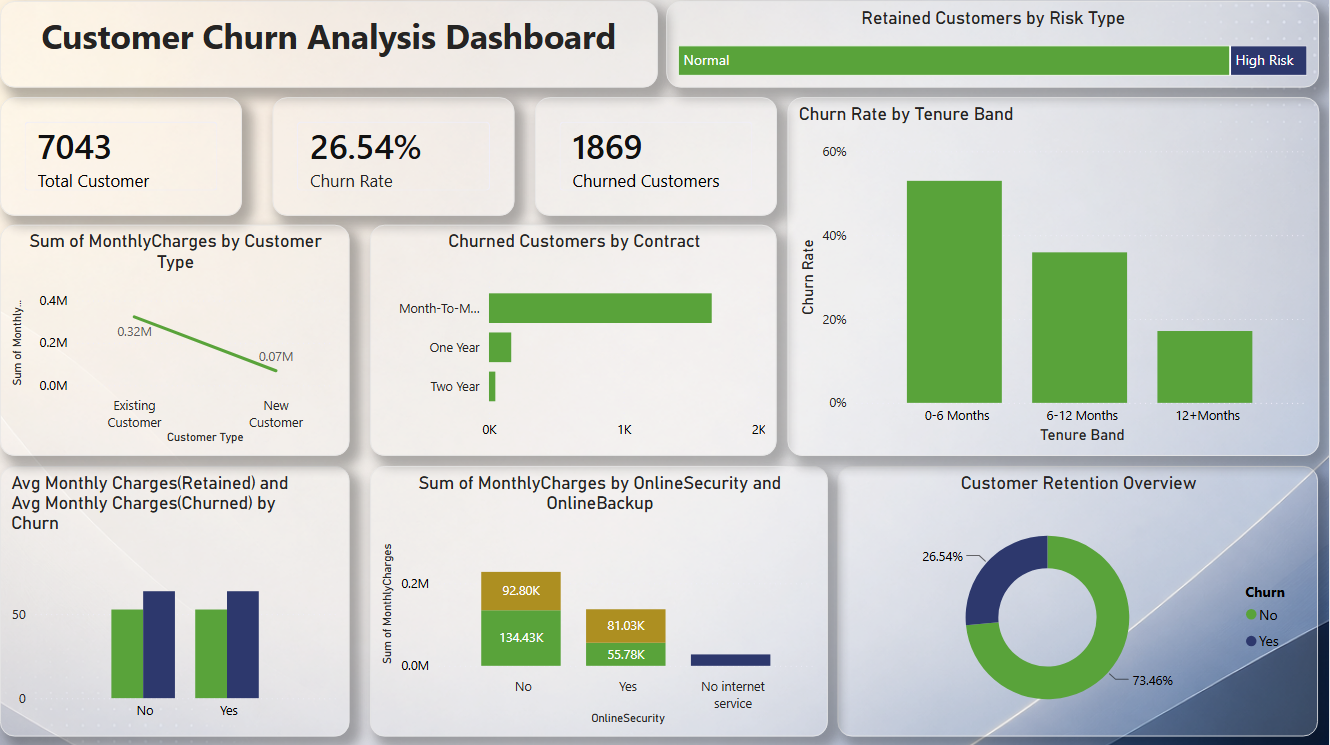

This screenshot's page, from the dashboard's own definition file:
{"tool":"powerbi","page":{"name":"Page 1","canvas":[1280,720],"ordinal":0},"visuals":[{"type":"textbox","box":[13.8,10,626.2,82.5],"z":0},{"type":"treemap","fields":{"Values":["Calculated Measure.Retained Customers"],"Group":["telco_churn_clean.Risk Type"]},"box":[648.8,10,621.2,82.5],"z":1000},{"type":"cardVisual","fields":{"Data":["Calculated Measure.Total Customer"]},"box":[13.8,101.2,230,112.5],"z":2000},{"type":"cardVisual","fields":{"Data":["Calculated Measure.Churn Rate"]},"box":[273.8,101.2,230,112.5],"z":3000},{"type":"cardVisual","fields":{"Data":["Calculated Measure.Churned Customers"]},"box":[523.8,101.2,230,112.5],"z":4000},{"type":"donutChart","title":"Customer Retention Overview","fields":{"Y":["Calculated Measure.Total Customer"],"Category":["telco_churn_clean.Churn"]},"box":[812.5,452.5,457.5,257.5],"z":5000},{"type":"barChart","fields":{"Y":["Calculated Measure.Churned Customers"],"Category":["telco_churn_clean.Contract"]},"box":[366.2,222.5,387.5,220],"z":6000},{"type":"columnChart","fields":{"Y":["Sum(telco_churn_clean.MonthlyCharges)"],"Category":["telco_churn_clean.OnlineSecurity"],"Series":["telco_churn_clean.OnlineBackup"]},"box":[366.2,452.5,436.2,257.5],"z":7000},{"type":"columnChart","fields":{"Y":["Calculated Measure.Churn Rate"],"Category":["telco_churn_clean.Tenure Band"]},"box":[763.8,101.2,506.2,341.2],"z":8000},{"type":"clusteredColumnChart","fields":{"Y":["Calculated Measure.Avg Monthly Charges(Retained)","Calculated Measure.Avg Monthly Charges(Churned)"],"Category":["telco_churn_clean.Churn"]},"box":[13.8,452.5,332.5,257.5],"z":8001},{"type":"lineChart","fields":{"Category":["telco_churn_clean.Customer Type"],"Y":["Sum(telco_churn_clean.MonthlyCharges)"]},"box":[13.8,222.5,332.5,220],"z":8002}]}

Visuals, with their boxes in screenshot pixels (x1, y1, x2, y2), scaled from the page's 1280x720 canvas onto the 1330x745 screenshot:
textbox: <box>14,10,665,96</box>
treemap - Calculated Measure.Retained Customers x telco_churn_clean.Risk Type: <box>674,10,1320,96</box>
cardVisual - Calculated Measure.Total Customer: <box>14,105,253,221</box>
cardVisual - Calculated Measure.Churn Rate: <box>284,105,523,221</box>
cardVisual - Calculated Measure.Churned Customers: <box>544,105,783,221</box>
"Customer Retention Overview" donutChart: <box>844,468,1320,735</box>
barChart - Calculated Measure.Churned Customers x telco_churn_clean.Contract: <box>381,230,783,458</box>
columnChart - Sum(telco_churn_clean.MonthlyCharges) x telco_churn_clean.OnlineSecurity: <box>381,468,834,735</box>
columnChart - Calculated Measure.Churn Rate x telco_churn_clean.Tenure Band: <box>794,105,1320,458</box>
clusteredColumnChart - Calculated Measure.Avg Monthly Charges(Retained) x Calculated Measure.Avg Monthly Charges(Churned): <box>14,468,360,735</box>
lineChart - telco_churn_clean.Customer Type x Sum(telco_churn_clean.MonthlyCharges): <box>14,230,360,458</box>
